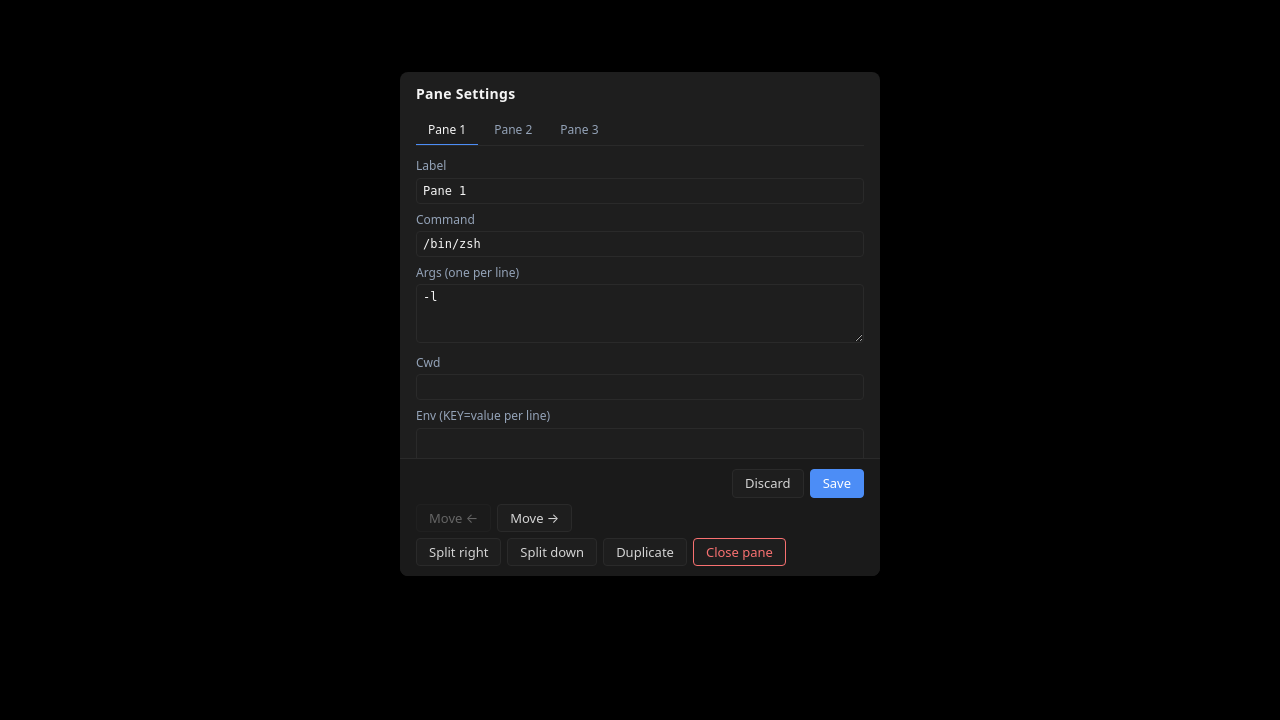
Test: PanesPanel › Discard resets the active tab's draft to the live spec
The width and height of the screenshot is (1280, 720).
Replace the text in the field with test id "panes-field-label" with "Throwaway" at (640, 191), box [416,178,864,204]
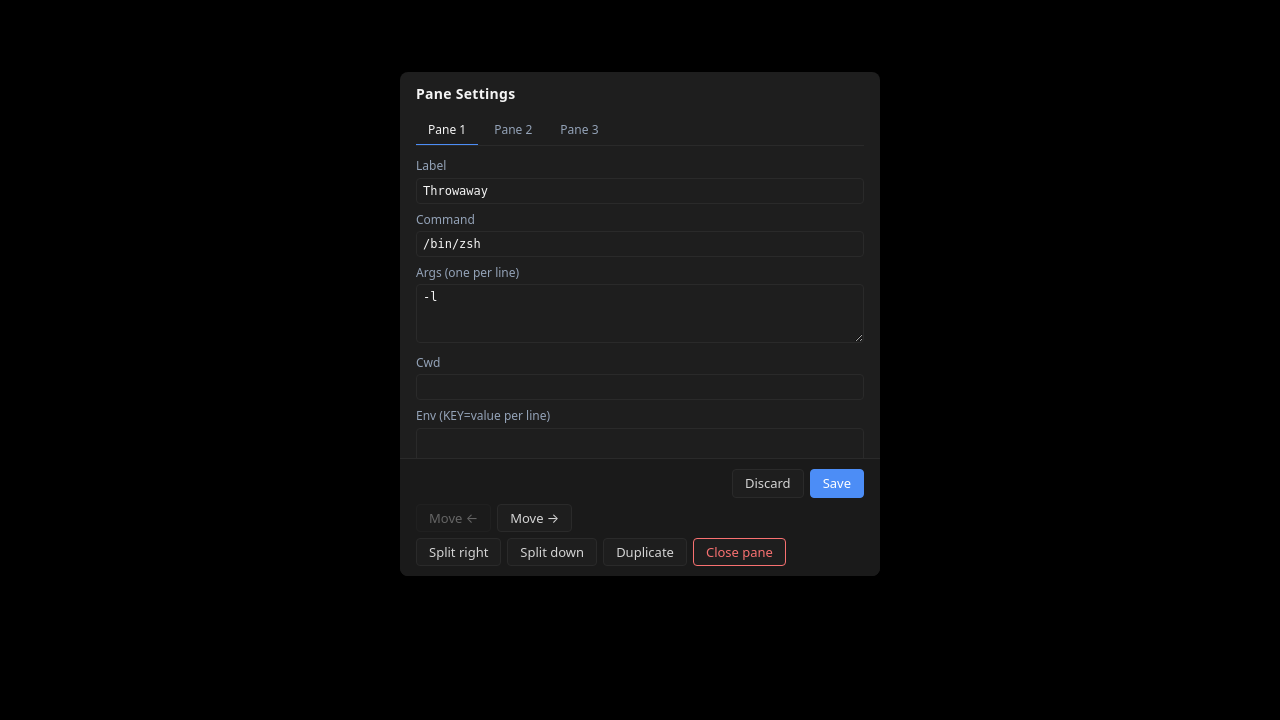
Click the button with test id "panes-discard" at (768, 484), box [732,469,804,498]
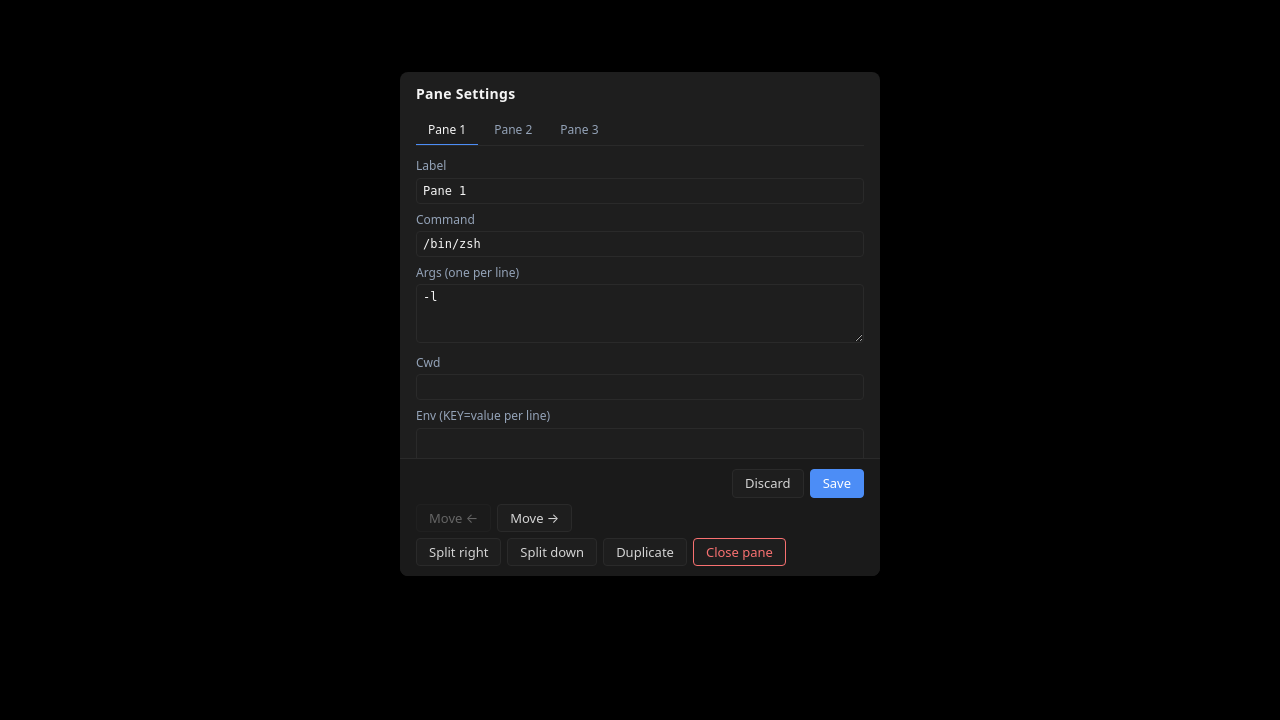
Now the field with test id "panes-field-label" holds "Pane 1", box [416,178,864,204]
